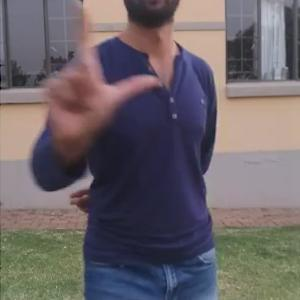land_hand: (37, 1, 164, 144)
